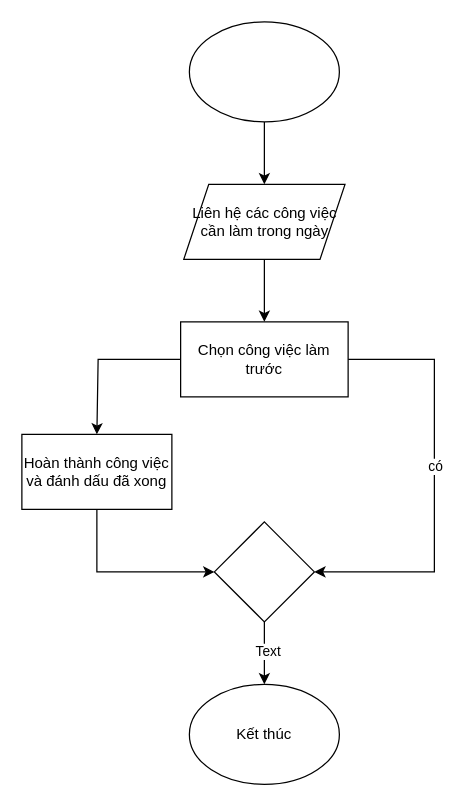
This 466x806 diagram has some shape labels left out. The centre of each missing label's shape, as x and y in pixels:
"Bắt đầu" belongs at (263,71).
"Công việc nào xong chưa" belongs at (263,571).
